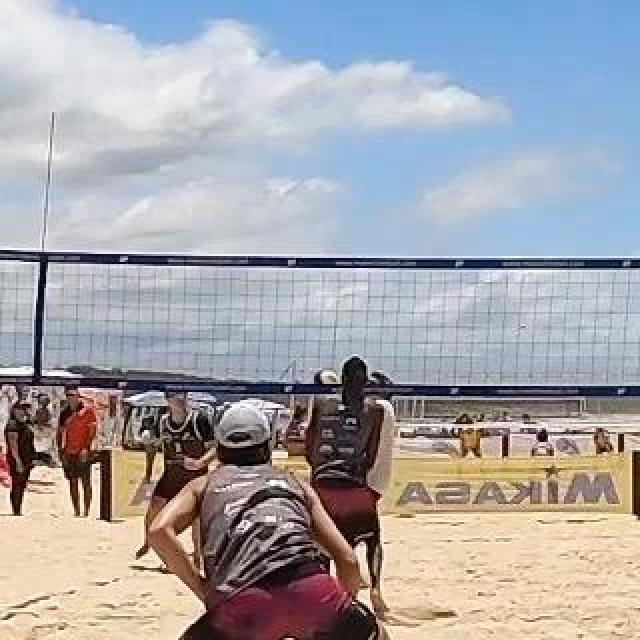volleyball: (313, 368, 339, 394)
